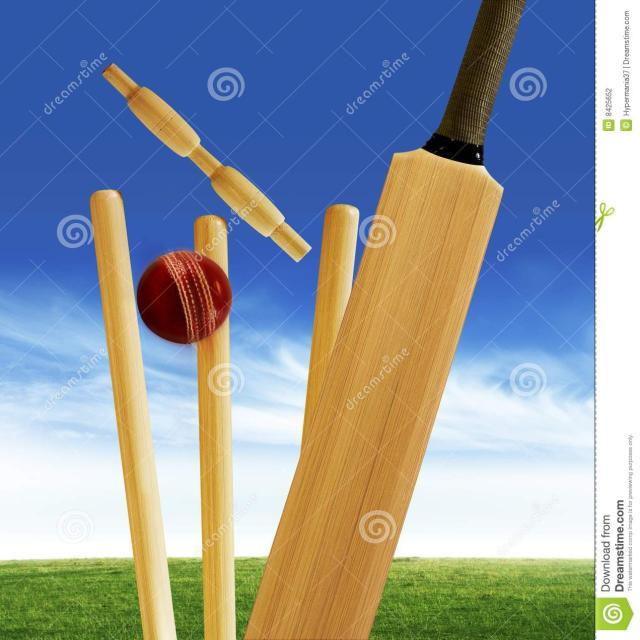stump: (91, 57, 361, 639)
